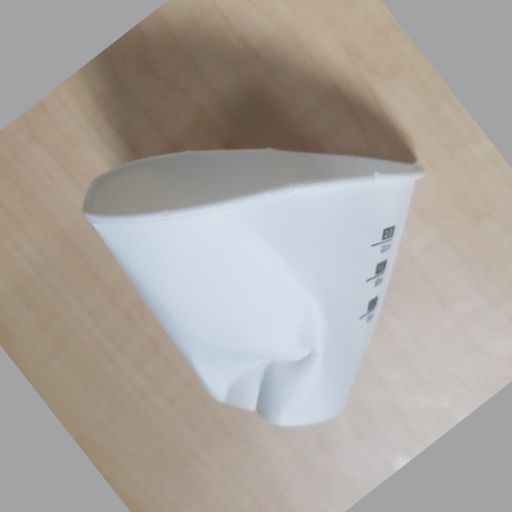Paper_1: (81, 143, 424, 429)
